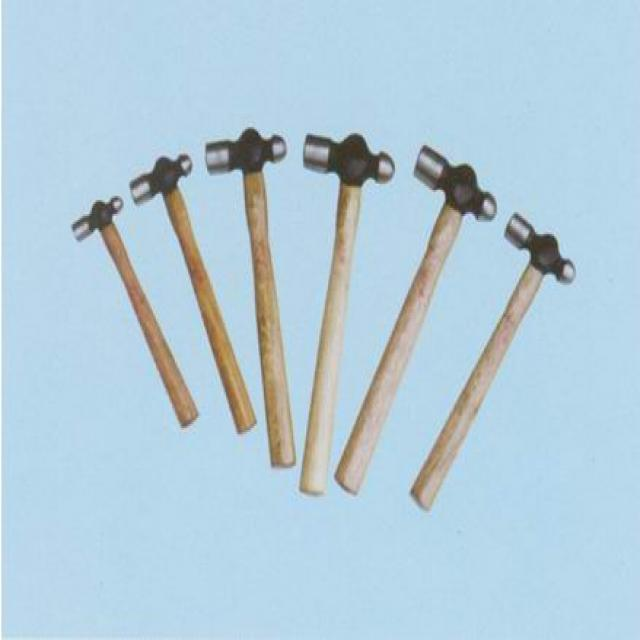hammer: (420, 198, 601, 550), (347, 138, 504, 500), (294, 121, 404, 517), (54, 185, 200, 480), (198, 124, 316, 472), (128, 142, 248, 458)
